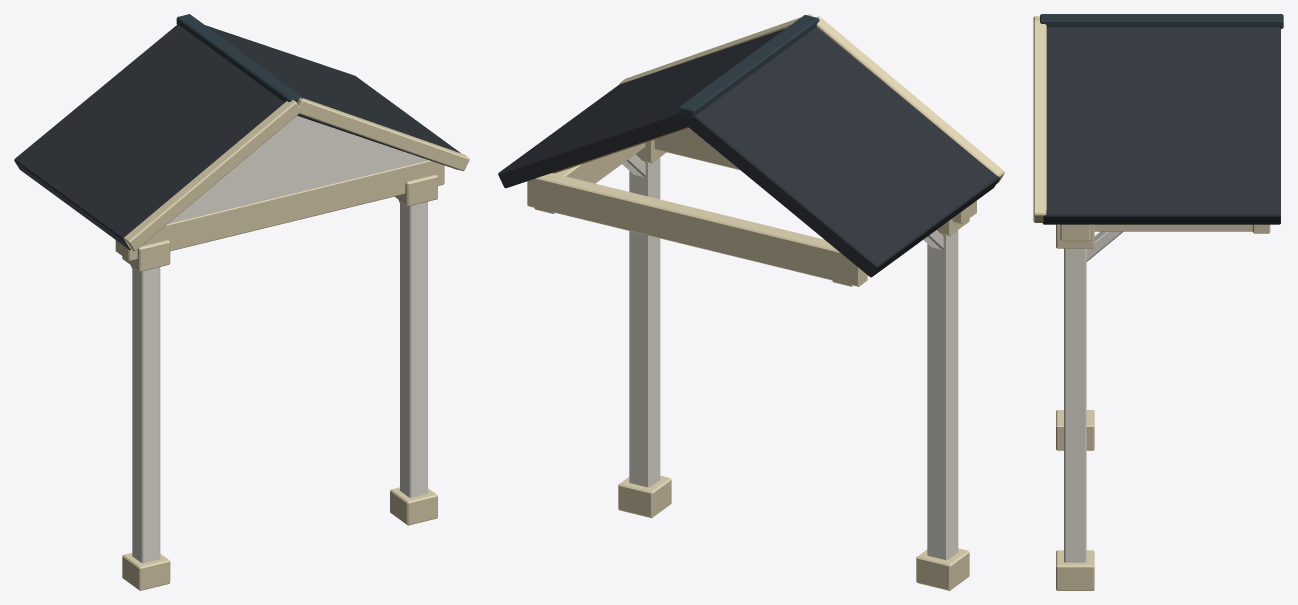
The model's file is b12_gabled_entry_portico.glb.
3 renders of one model, left to right at view 1: azimuth 30°, elevation 25°; view 2: azimuth 150°, elevation 25°; view 3: azimuth 270°, elevation 25°, orthographic. The views are drawn at different scales.
Parts seen in each view (by area): view 1: b12_gabled_entry_portico; view 2: b12_gabled_entry_portico; view 3: b12_gabled_entry_portico.
Boxes of the visible parts, bbox=[...] form: b12_gabled_entry_portico: bbox=[14, 14, 469, 590]; b12_gabled_entry_portico: bbox=[498, 14, 1004, 590]; b12_gabled_entry_portico: bbox=[1033, 14, 1283, 590].
Size of the model in its own units: 2.4 by 3.12 by 1.42.
